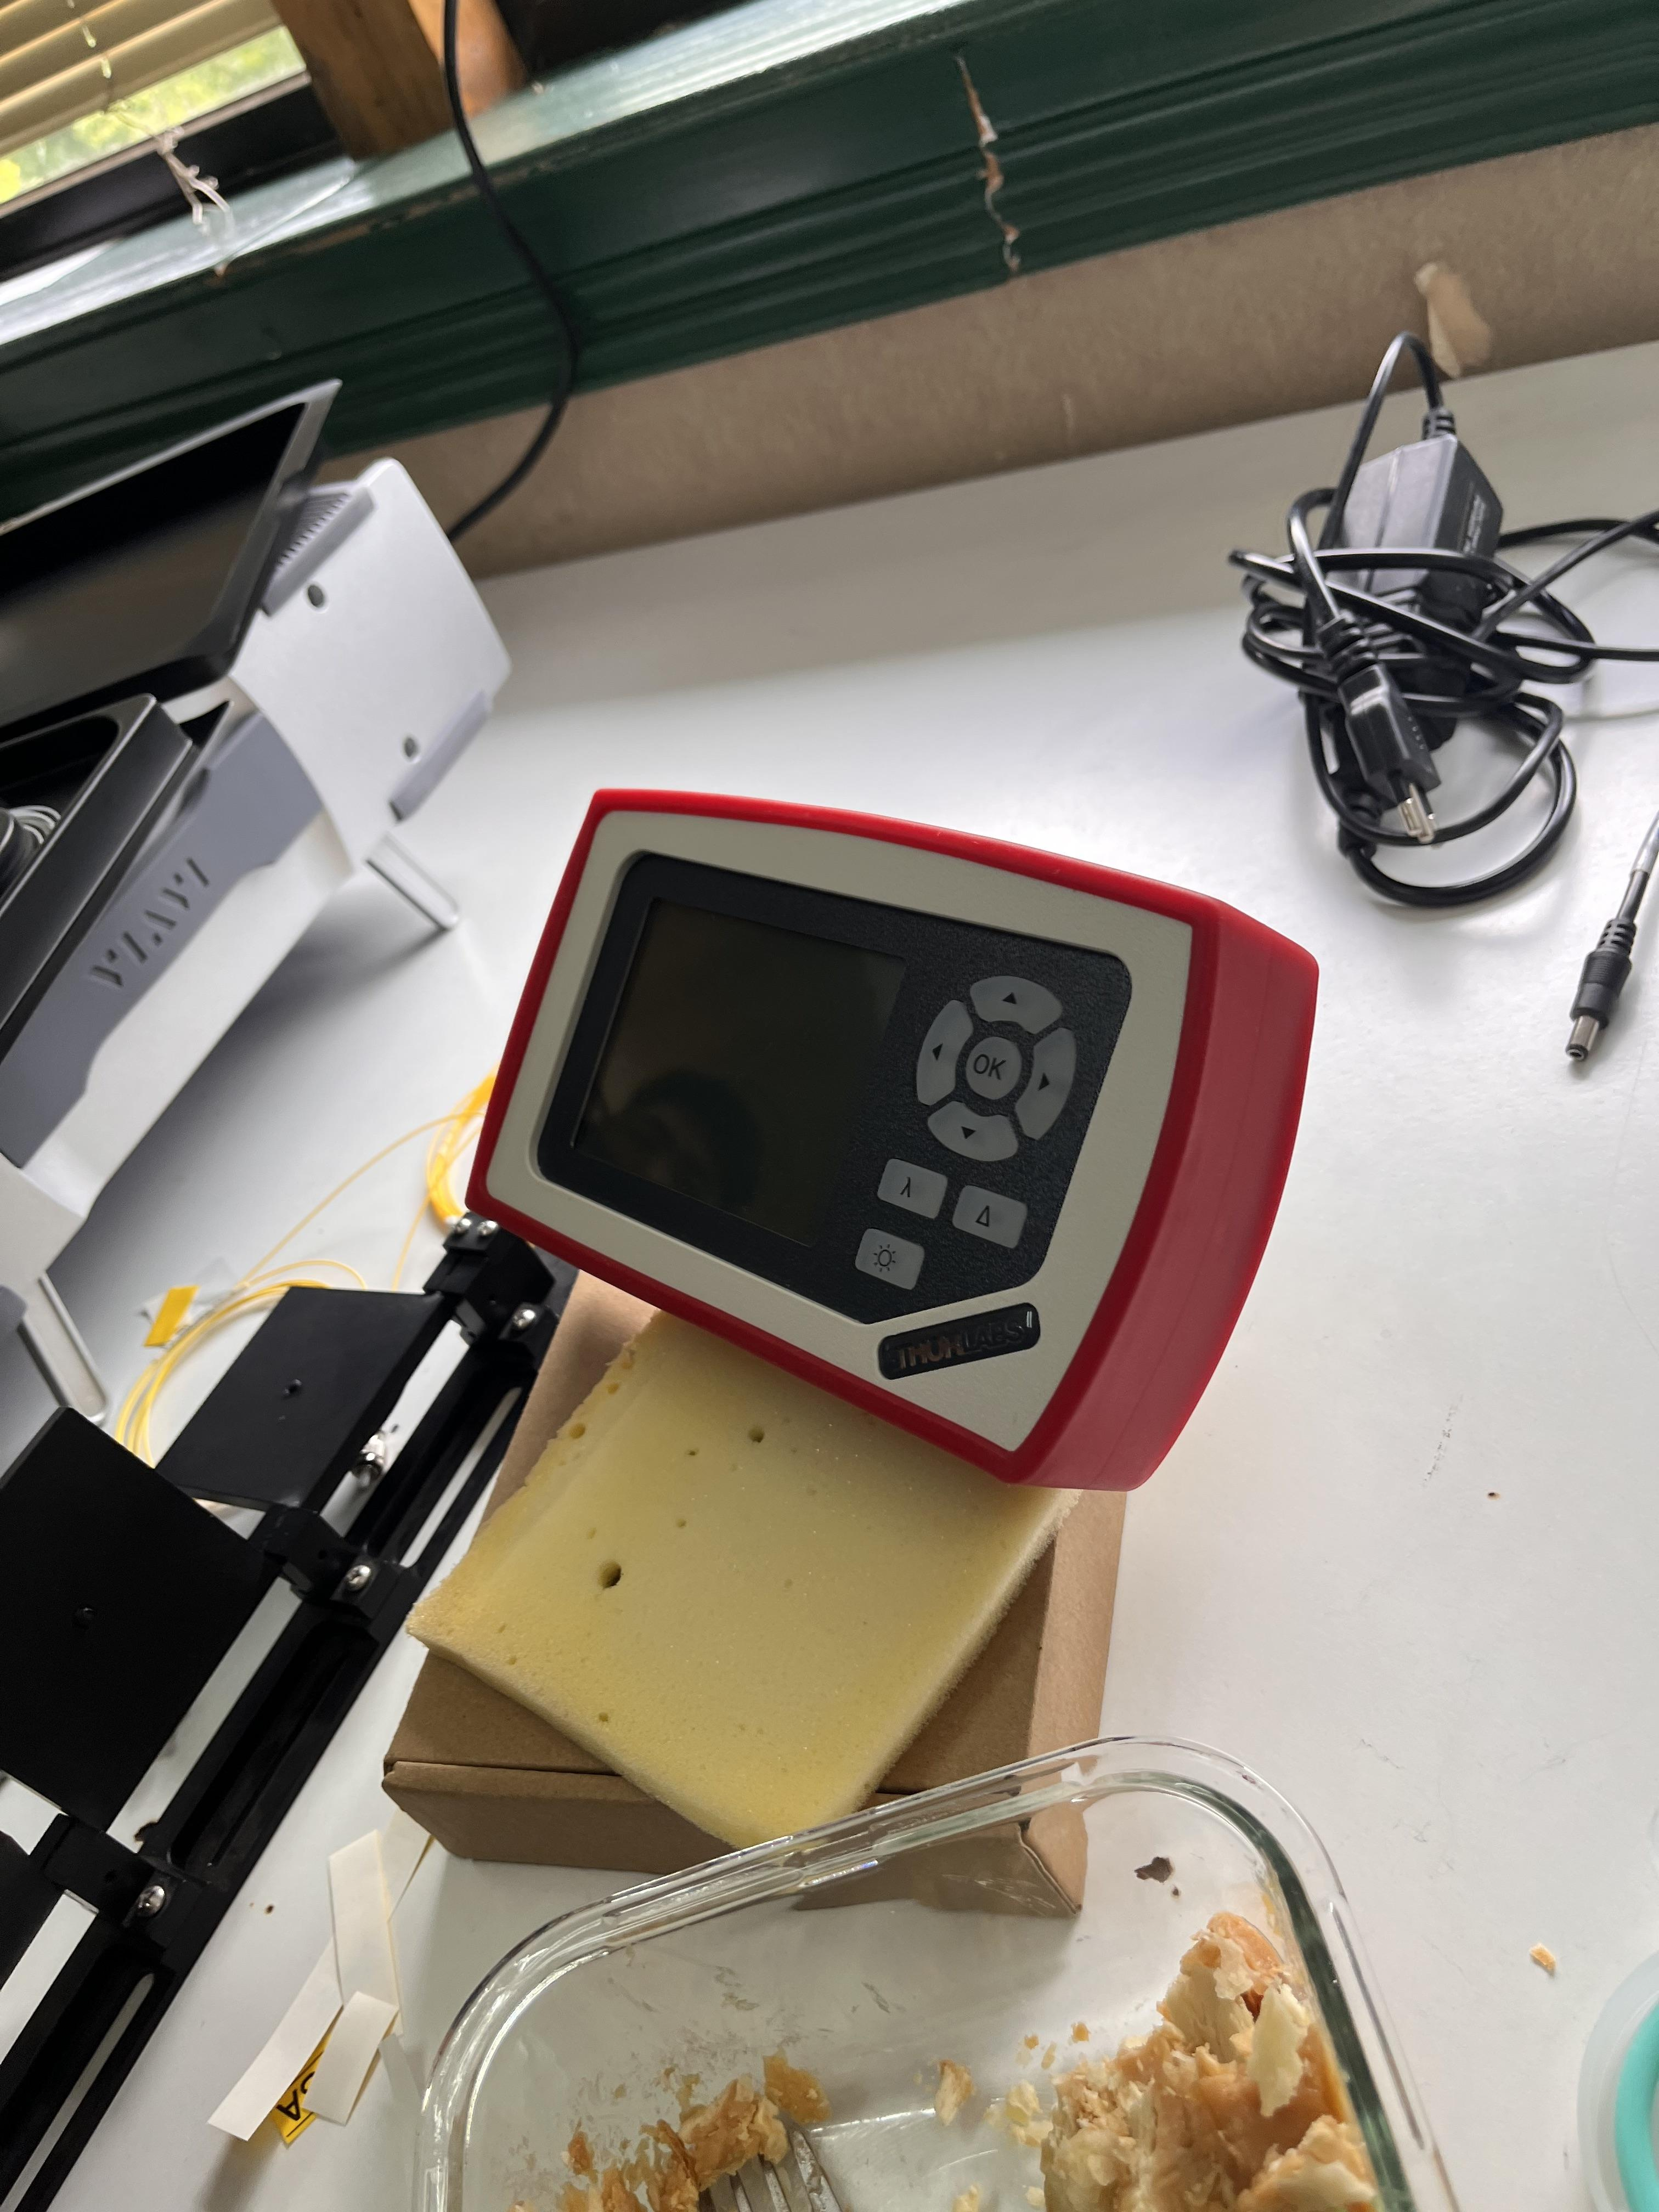powermeter: (450, 780, 1326, 1501)
